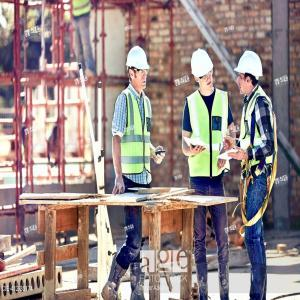white: (238, 51, 263, 96), (191, 50, 213, 95), (128, 47, 149, 91)
